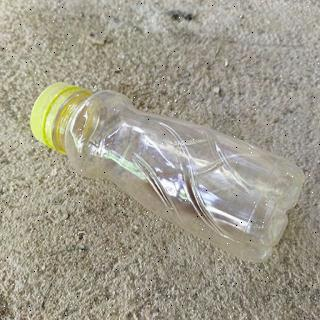Plastic-bottle: (31, 81, 307, 265)
